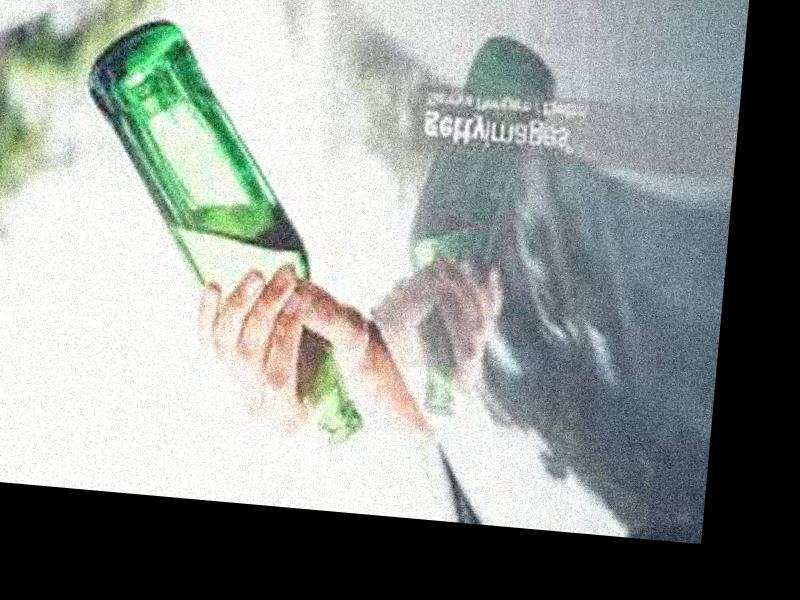Beer: (61, 12, 401, 444)
